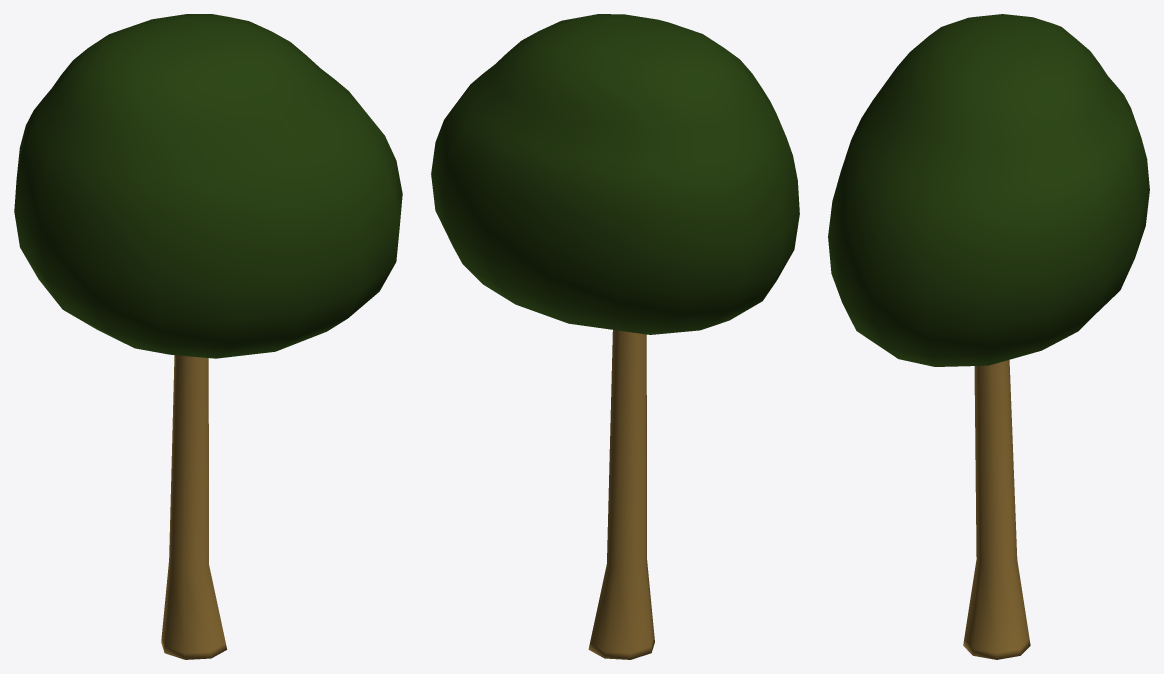
The model's file is Tree2.gltf.
3 renders of one model, left to right at view 1: azimuth 30°, elevation 25°; view 2: azimuth 150°, elevation 25°; view 3: azimuth 270°, elevation 25°, orthographic. The views are drawn at different scales.
Visible parts, largest first — view 1: crown 2, tree 2; view 2: crown 2, tree 2; view 3: crown 2, tree 2.
Part boxes in pixels (<box>): crown 2: <box>14,14,402,358</box>; tree 2: <box>161,355,227,659</box>; crown 2: <box>431,14,799,334</box>; tree 2: <box>588,330,654,659</box>; crown 2: <box>828,14,1149,366</box>; tree 2: <box>963,360,1030,659</box>.
Bounding box in the file's own units: 2.91 × 5.09 × 2.46.
